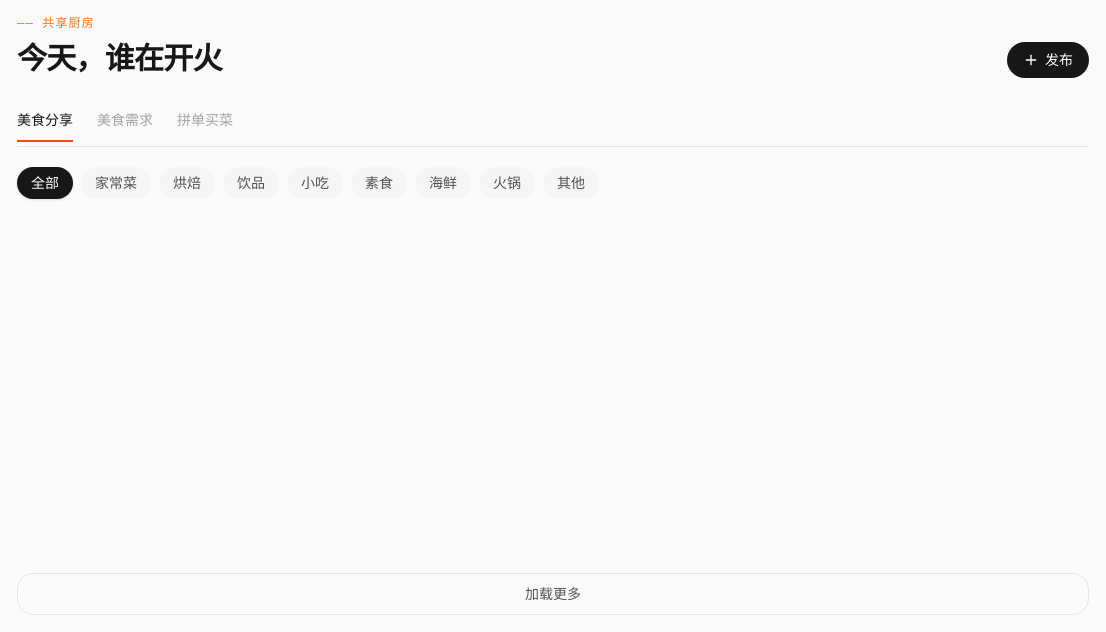
Test: SharedKitchen/index 共享厨房列表页 › 拼单 Tab 不显示类别筛选按钮
Step 1. Click the button "拼单买菜" → click(205, 126), box [177,110,233,142]
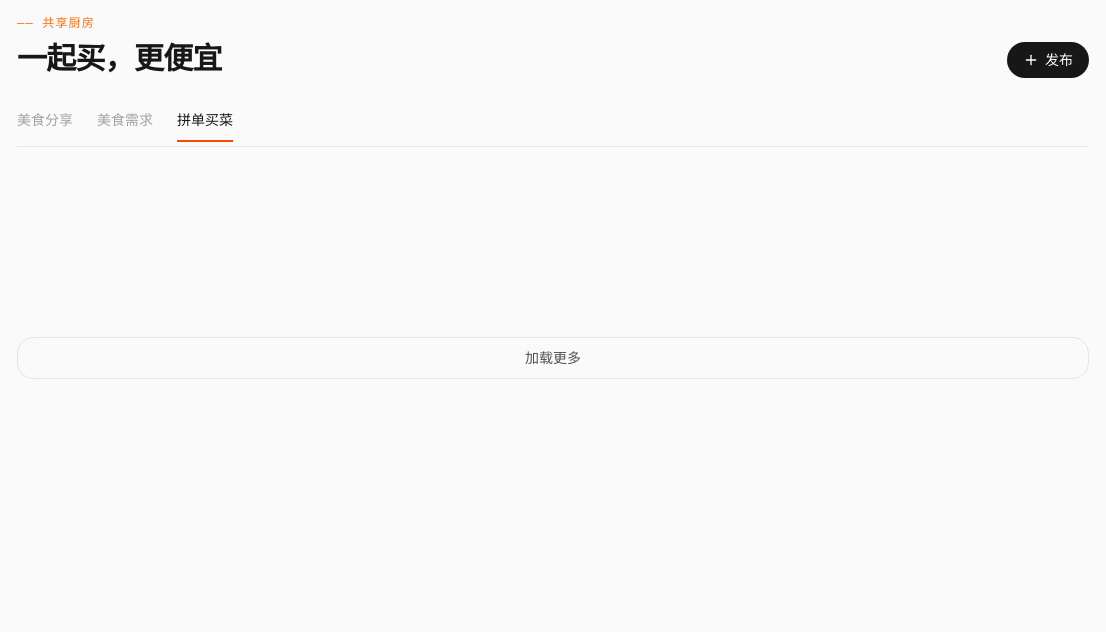
expect the heading "一起买，更便宜" is shown: met, box [17,40,222,78]
expect the button "家常菜" is gone: met
